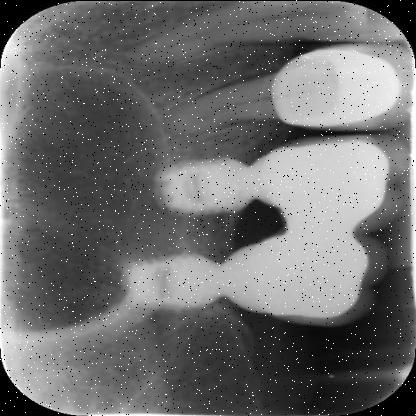Bicon: (149, 150, 253, 224), (124, 251, 226, 317)
